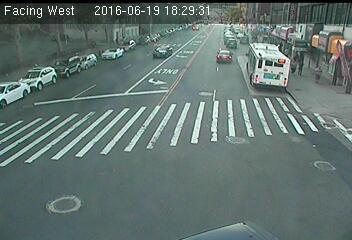neg: (58, 29, 69, 44), (10, 40, 21, 55), (138, 32, 148, 46)
pos: (295, 54, 308, 72), (286, 56, 299, 73)
